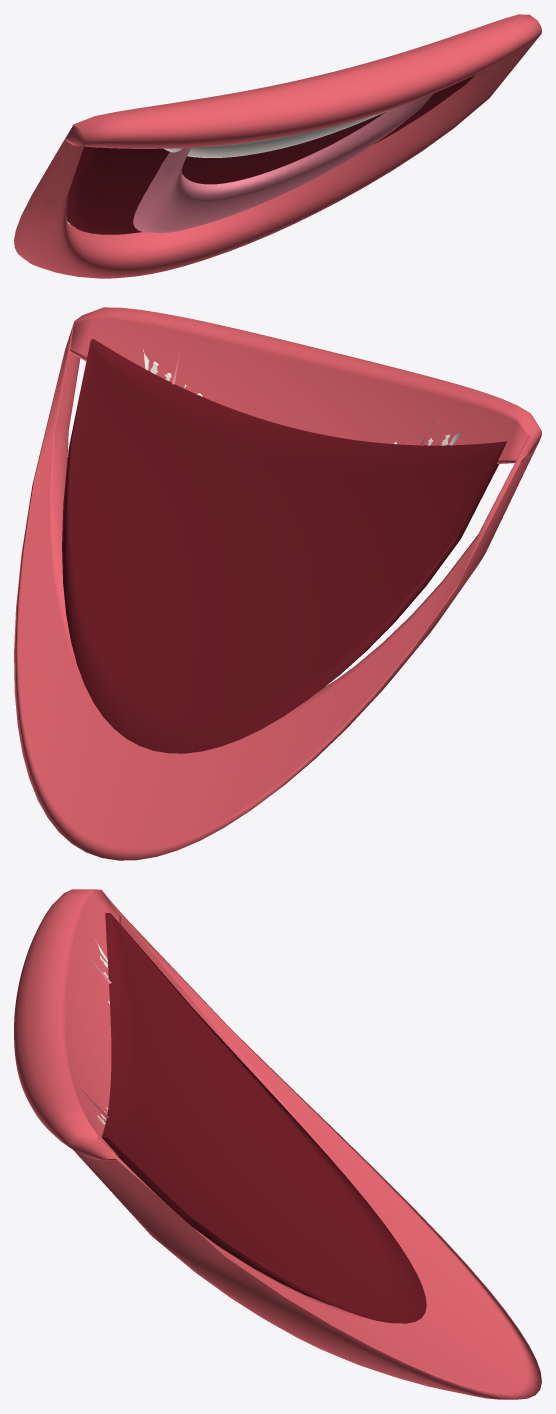
Rendered from mouth-laugh.glb.
The picture shows the model from 3 angles, top to bottom: view 1: azimuth 30°, elevation 25°; view 2: azimuth 150°, elevation 25°; view 3: azimuth 270°, elevation 25°; orthographic projection. The views are drawn at different scales.
Visible parts, largest first — view 1: upperlip, lowerlip, inside, tongue, teeth; view 2: inside, lowerlip, upperlip; view 3: inside, lowerlip, upperlip.
Boxes of the visible parts, left/top/right/bottom form: upperlip: left=64, top=14, right=541, bottom=148; lowerlip: left=14, top=35, right=540, bottom=278; inside: left=66, top=75, right=474, bottom=234; tongue: left=133, top=93, right=433, bottom=232; teeth: left=164, top=110, right=387, bottom=157; inside: left=62, top=339, right=506, bottom=753; lowerlip: left=14, top=322, right=538, bottom=860; upperlip: left=70, top=307, right=541, bottom=463; inside: left=101, top=913, right=426, bottom=1323; lowerlip: left=72, top=892, right=541, bottom=1399; upperlip: left=14, top=889, right=121, bottom=1160.
Bounding box in the file's own units: 0.165 × 0.1187 × 0.1492.
